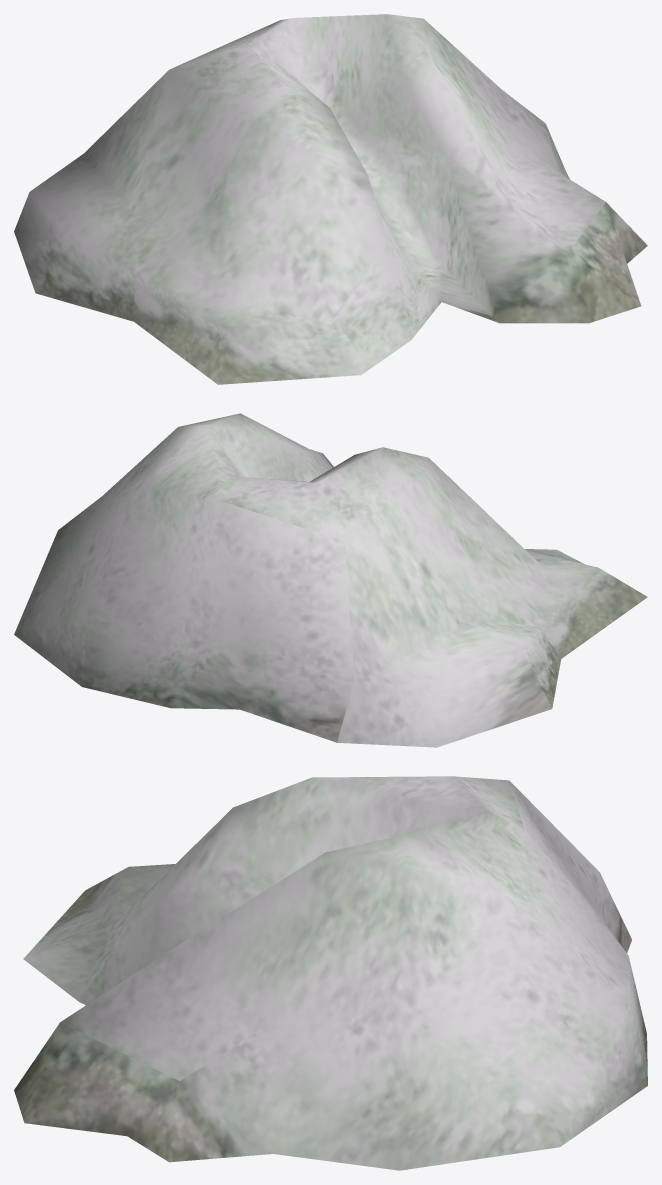
File: general_obj_stone13_lod_01.glb
The picture shows the model from 3 angles, top to bottom: view 1: azimuth 30°, elevation 25°; view 2: azimuth 150°, elevation 25°; view 3: azimuth 270°, elevation 25°; orthographic projection. The views are drawn at different scales.
Visible parts, largest first — view 1: Sphere01; view 2: Sphere01; view 3: Sphere01.
Part boxes in pixels (box(x1,y1,x2,y2)): Sphere01: box(14, 14, 647, 384); Sphere01: box(14, 413, 647, 747); Sphere01: box(14, 776, 647, 1170).
Size of the model in its own units: 7.83 by 2.81 by 6.86.
Materials: 1 (1 with a texture image).
